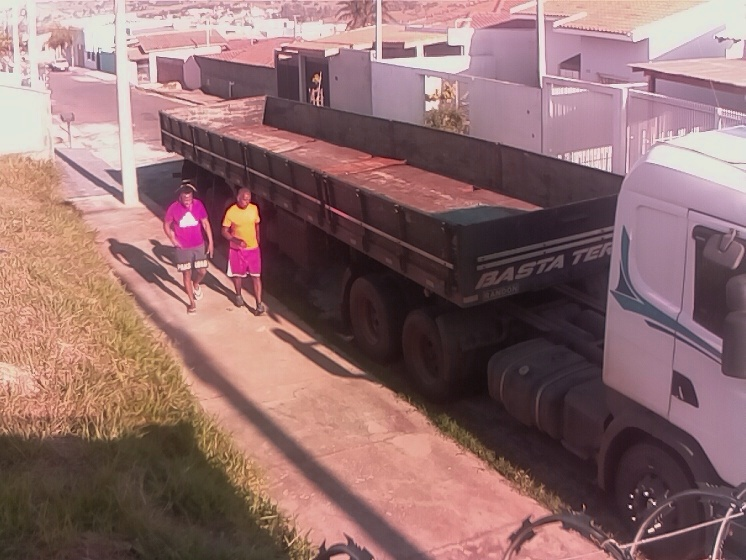person: (162, 185, 216, 318), (219, 186, 271, 316)
